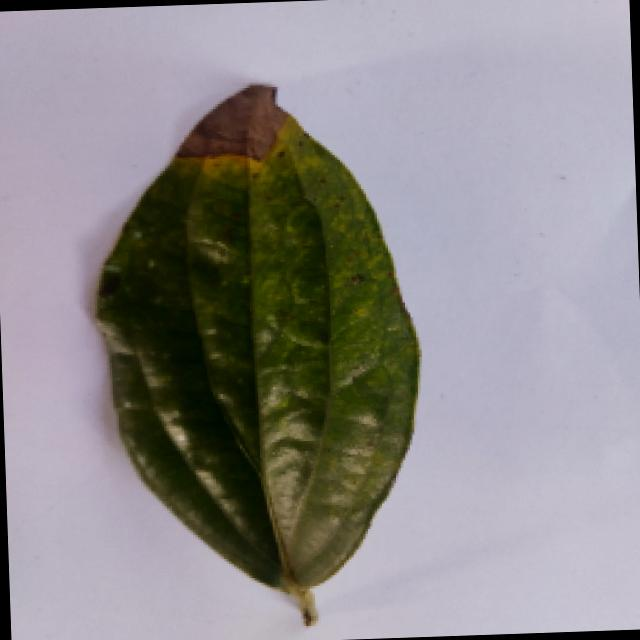footrot: (69, 82, 438, 631)
